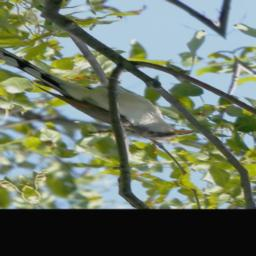Cuckoo: (0, 20, 199, 163)
